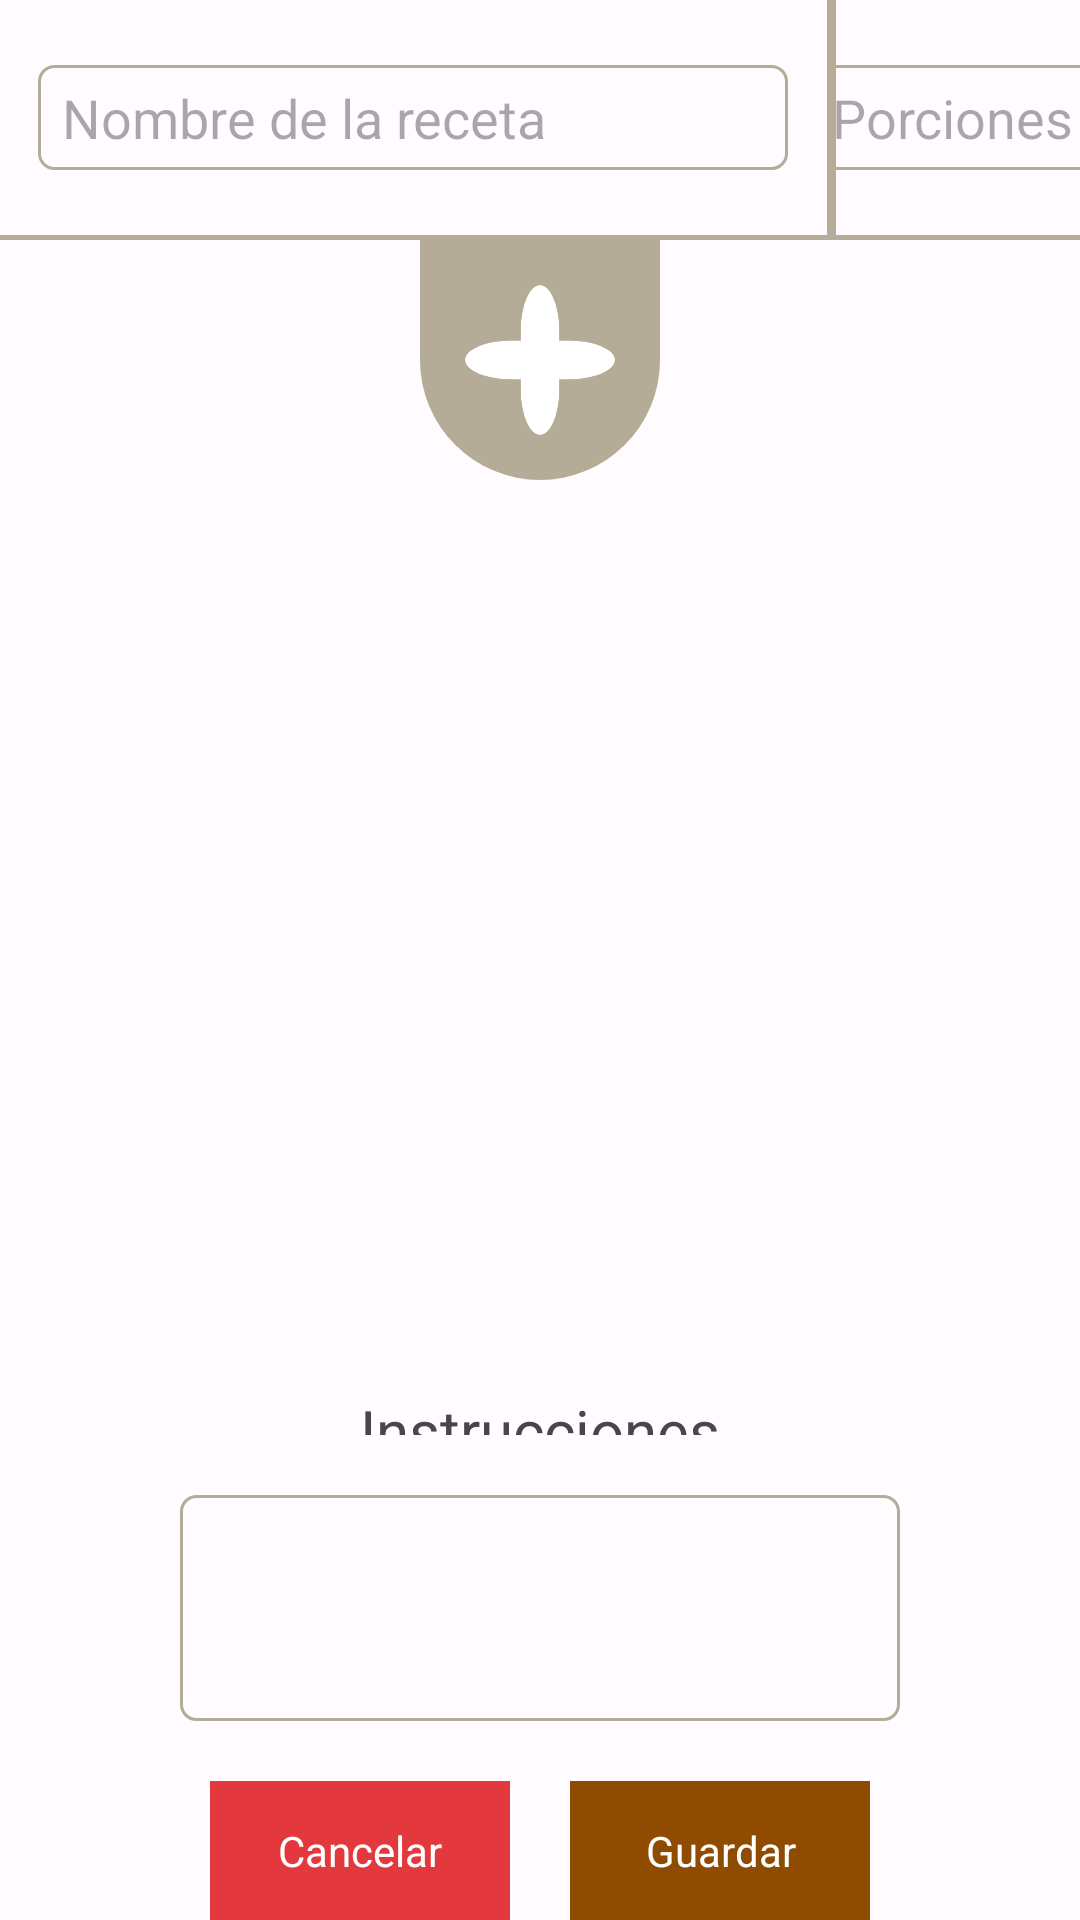

Screen size 1080*1920. Icon name, then its box in pixels as (x1, y1, x2, y2):
mas blanco: (465, 285, 615, 435)
